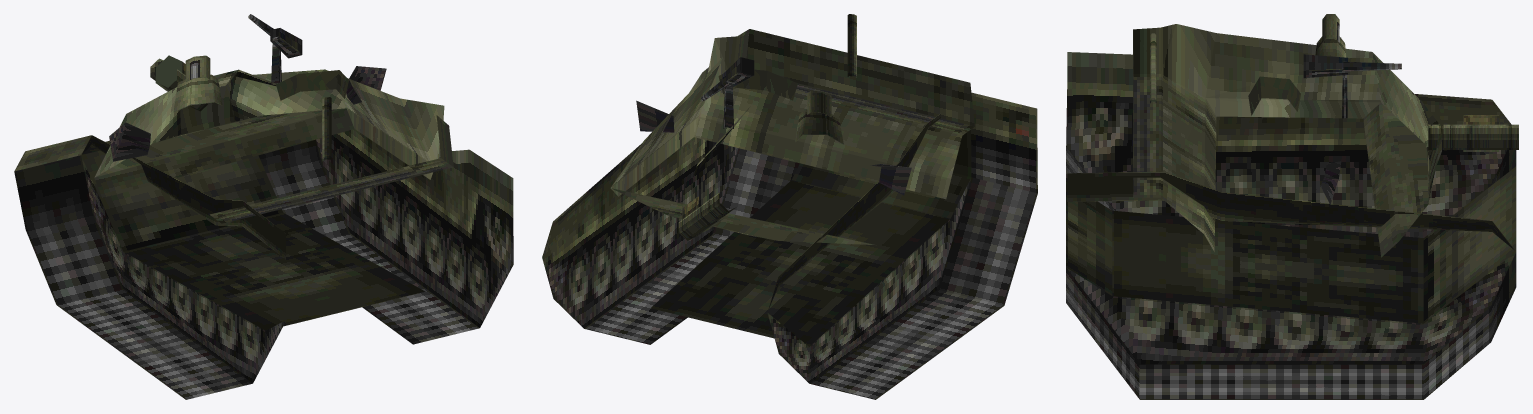
The model's file is ps2_save-icons_gaikanogouhouairlandforce.glb.
3 views of the same model, side by side, from view 1: azimuth 30°, elevation 25°; view 2: azimuth 150°, elevation 25°; view 3: azimuth 270°, elevation 25° (orthographic). The views are drawn at different scales.
Visible parts, largest first — view 1: MEM0001.ICO; view 2: MEM0001.ICO; view 3: MEM0001.ICO.
Part boxes in pixels (x1,y1,x2,y2): MEM0001.ICO: (14, 14, 513, 399); MEM0001.ICO: (542, 14, 1037, 399); MEM0001.ICO: (1066, 14, 1518, 399).
Bounding box in the file's own units: 3.28 × 2.79 × 4.
Materials: 1 (1 with a texture image).
